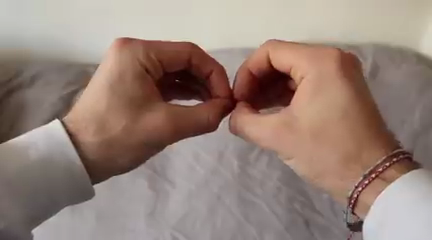B: (71, 25, 368, 197)
